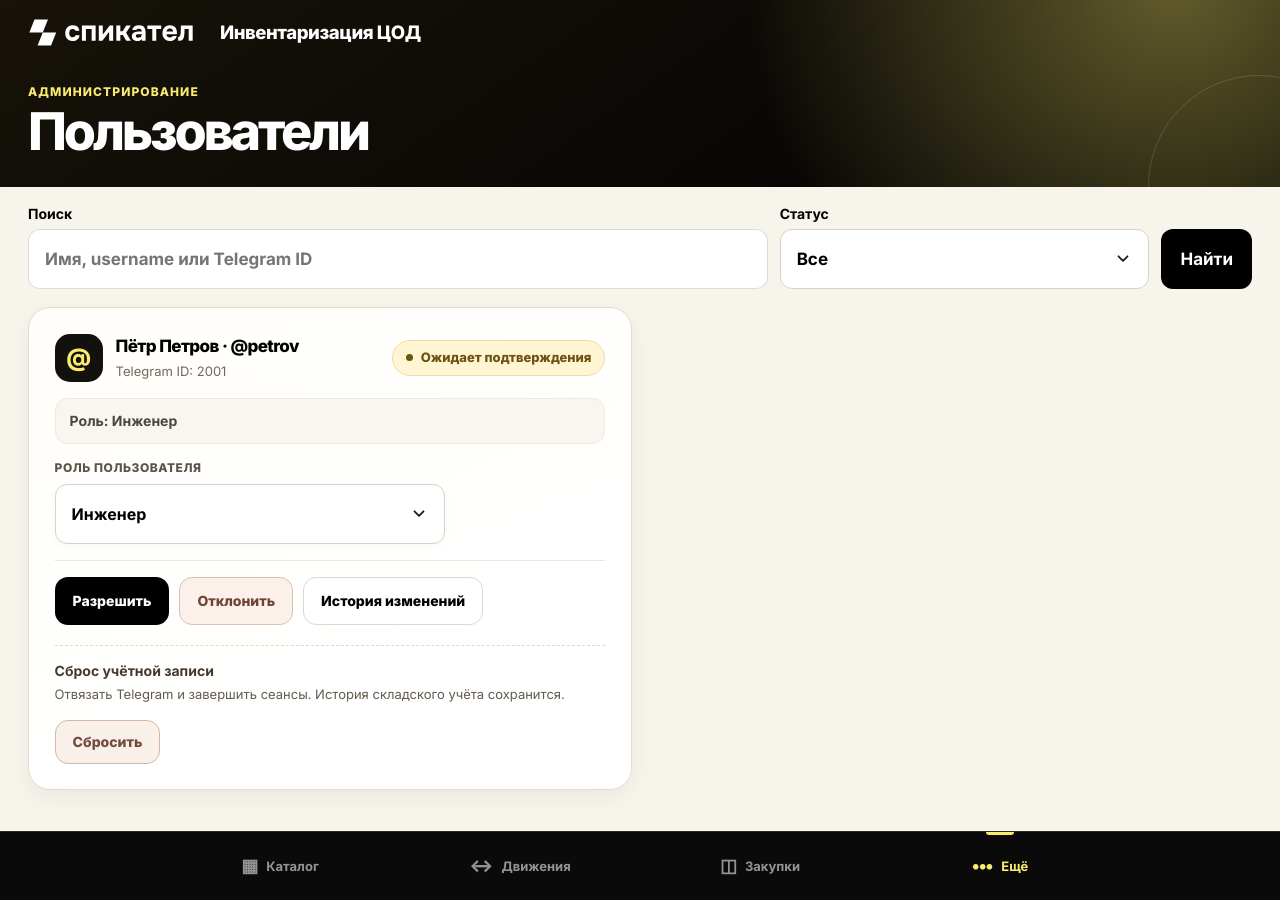
Test case: ADMIN решает PENDING access request: APPROVE
The image size is (1280, 900).
Check: the text "Ожидает подтверждения" is shown, box [392, 340, 605, 376]
Check: the button "Отклонить" is shown, box [180, 577, 293, 625]
Click the button "Разрешить".
click(112, 601)  # box [55, 577, 170, 625]
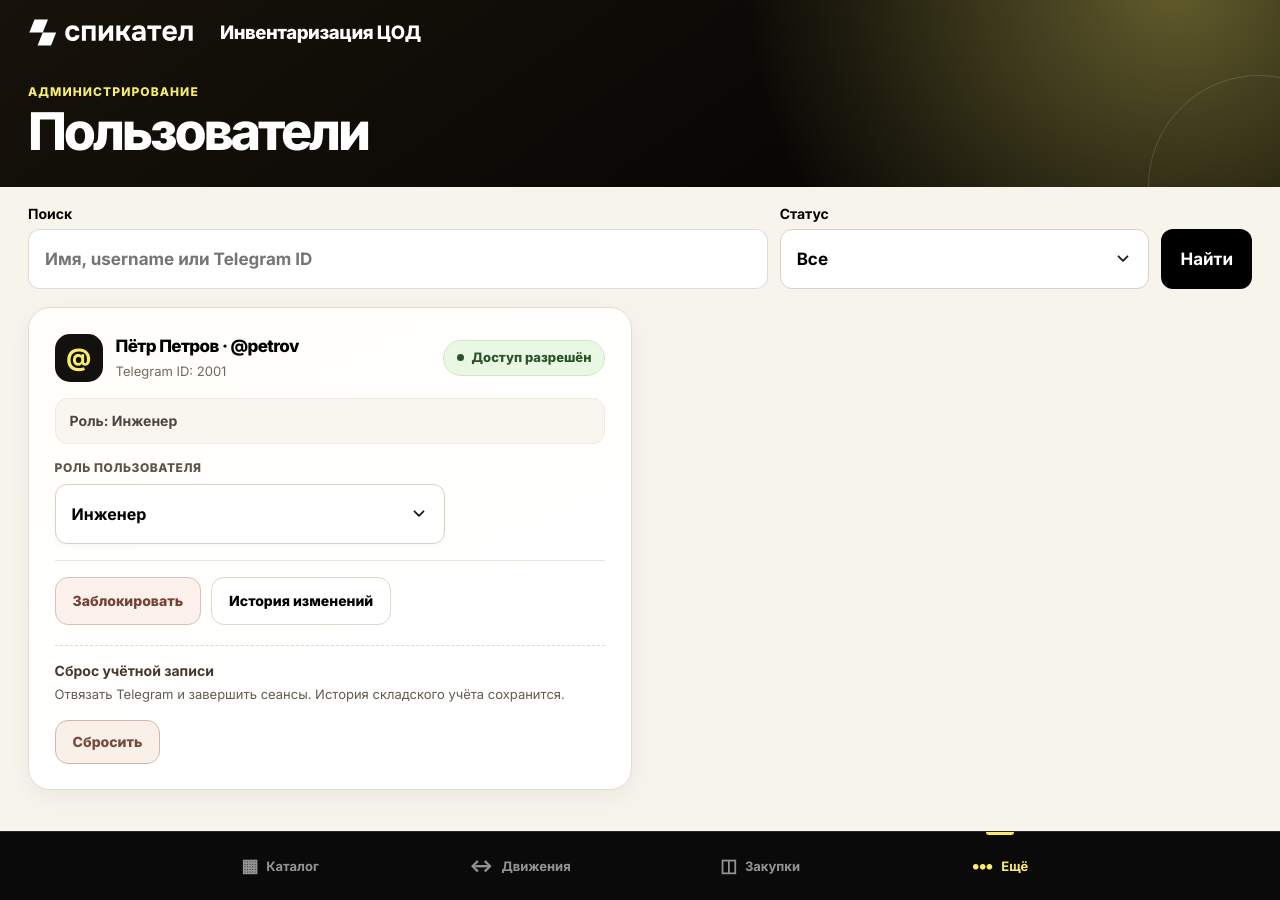
Check: the text "Доступ разрешён" is shown, box [442, 340, 605, 376]
